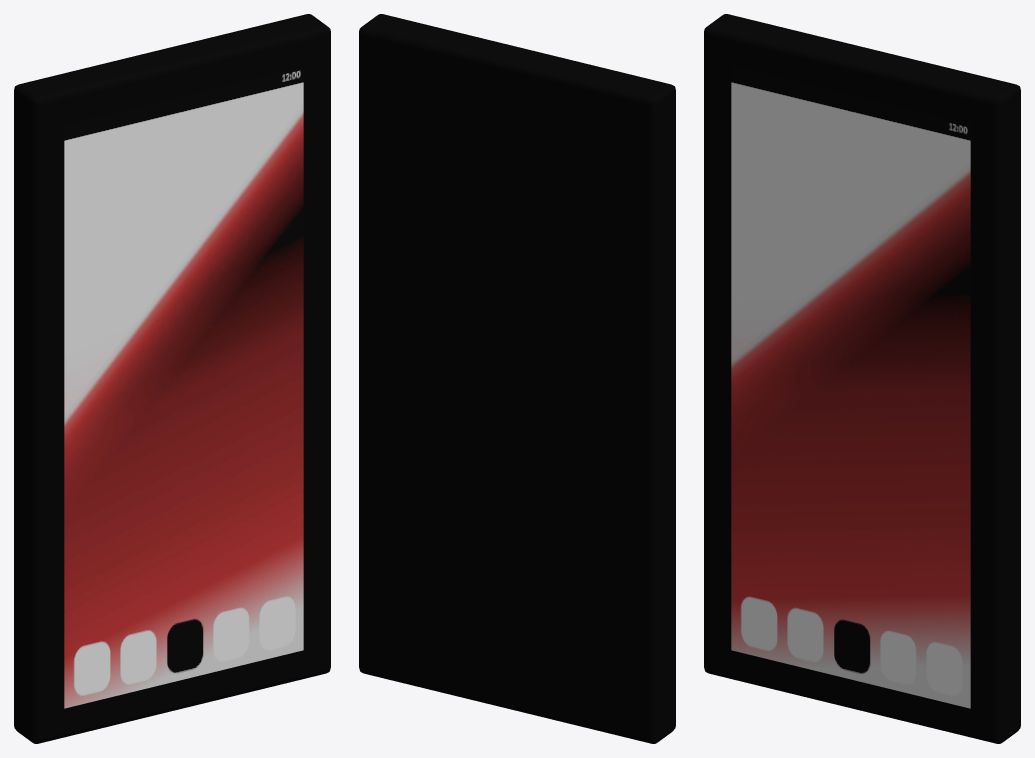
Rendered from phone-basic.glb.
3 views of the same model, side by side, from view 1: azimuth 30°, elevation 25°; view 2: azimuth 150°, elevation 25°; view 3: azimuth 330°, elevation 25° (orthographic).
Parts seen in each view (by area): view 1: Cube; view 2: Cube; view 3: Cube.
Part boxes in pixels (left/top/right/bottom): Cube: left=14, top=14, right=330, bottom=743; Cube: left=359, top=14, right=675, bottom=743; Cube: left=704, top=14, right=1020, bottom=743.
Bounding box in the file's own units: 0.075 × 0.1549 × 0.01.
Materials: 2 (1 with a texture image).
